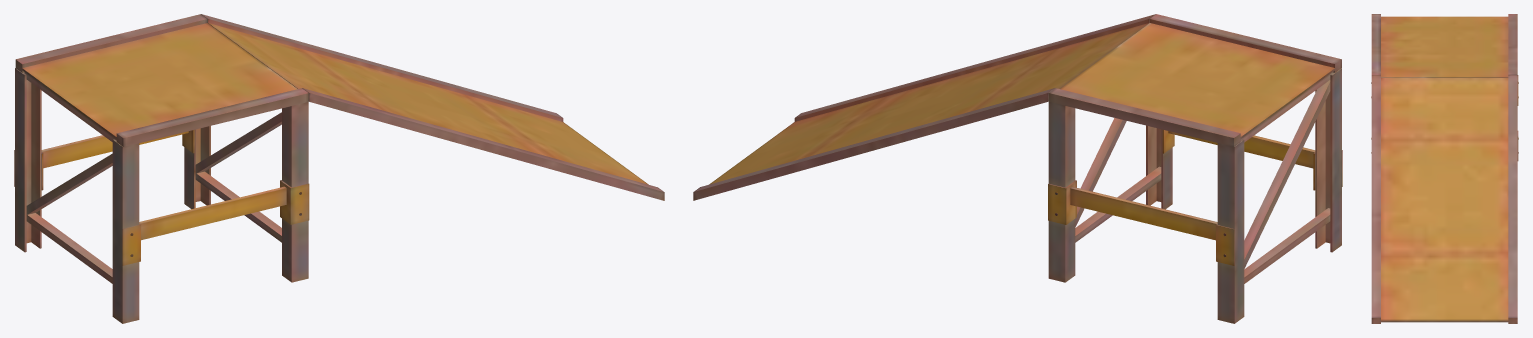
The model's file is ss-rack-ramp.lod1.glb.
The picture shows the model from 3 angles, left to right: view 1: azimuth 30°, elevation 25°; view 2: azimuth 150°, elevation 25°; view 3: azimuth 270°, elevation 25°; orthographic projection. The views are drawn at different scales.
Visible parts, largest first — view 1: PalletRacking_staircase_2_PalletRacking_staircase_2_0; view 2: PalletRacking_staircase_2_PalletRacking_staircase_2_0; view 3: PalletRacking_staircase_2_PalletRacking_staircase_2_0.
Boxes of the visible parts, left/top/right/bottom form: PalletRacking_staircase_2_PalletRacking_staircase_2_0: left=14, top=14, right=664, bottom=323; PalletRacking_staircase_2_PalletRacking_staircase_2_0: left=693, top=14, right=1342, bottom=323; PalletRacking_staircase_2_PalletRacking_staircase_2_0: left=1371, top=14, right=1518, bottom=323.
Bounding box in the file's own units: 6.4 × 2.2 × 2.23.
1 material, 1 textured.
